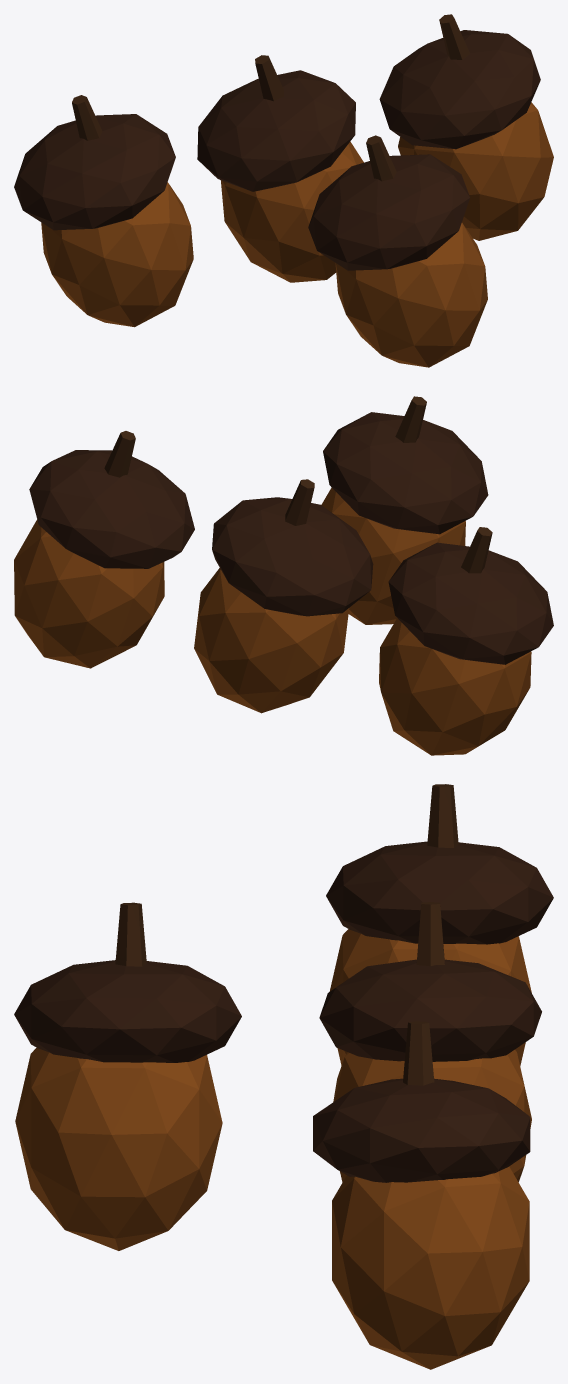
Rendered from pile-treeSeed-4.obj.
3 views of the same model, one above another, from view 1: azimuth 30°, elevation 25°; view 2: azimuth 150°, elevation 25°; view 3: azimuth 270°, elevation 25° (orthographic). The views are drawn at different scales.
Parts seen in each view (by area): view 1: pile-treeSeed-4; view 2: pile-treeSeed-4; view 3: pile-treeSeed-4.
Boxes of the visible parts, x1=… form: pile-treeSeed-4: x1=14, y1=14, x2=553, y2=367; pile-treeSeed-4: x1=14, y1=396, x2=553, y2=755; pile-treeSeed-4: x1=14, y1=784, x2=553, y2=1369.
Size of the model in its own units: 0.7737 by 0.3302 by 0.5195.
Materials: 1 (1 with a texture image).
